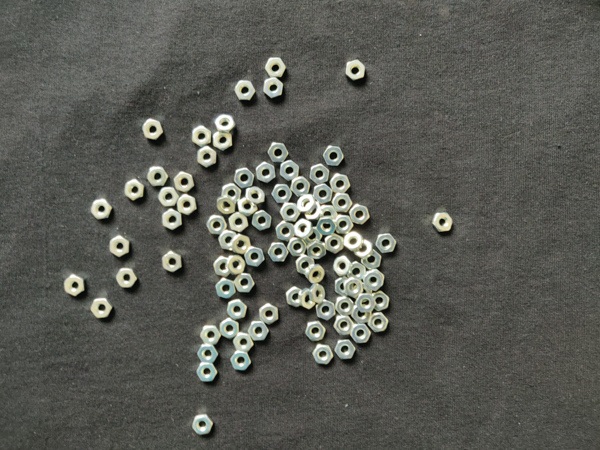nut: (192, 414, 214, 436), (64, 275, 85, 297), (91, 298, 113, 319), (234, 80, 256, 101), (375, 233, 397, 254), (91, 199, 112, 220), (225, 255, 246, 276), (207, 215, 228, 236), (290, 176, 311, 197), (305, 321, 326, 342), (368, 312, 389, 333), (432, 212, 453, 233), (147, 167, 169, 187), (162, 209, 182, 231), (162, 251, 182, 273), (197, 146, 217, 168), (263, 77, 283, 99), (265, 58, 287, 78), (256, 162, 276, 184), (316, 300, 336, 322), (333, 256, 353, 278), (116, 268, 137, 288), (125, 180, 145, 201), (143, 119, 163, 140), (158, 187, 179, 207), (177, 195, 197, 216), (174, 172, 194, 193), (192, 126, 212, 147), (346, 60, 366, 81), (216, 278, 236, 299), (233, 333, 254, 353), (234, 273, 255, 293), (245, 246, 265, 267), (228, 212, 248, 233), (221, 183, 241, 204), (234, 168, 254, 189), (237, 197, 258, 217), (252, 210, 272, 231), (268, 143, 289, 163), (268, 243, 289, 263), (275, 221, 296, 241), (313, 345, 334, 365), (310, 164, 330, 185), (323, 146, 344, 166), (332, 193, 353, 213), (349, 205, 370, 225), (334, 315, 354, 336), (335, 340, 356, 360), (350, 324, 371, 344), (361, 250, 382, 270), (356, 294, 377, 314), (218, 230, 237, 252), (280, 160, 299, 182), (231, 351, 251, 371), (249, 322, 269, 342), (231, 234, 251, 254), (297, 194, 317, 214), (330, 174, 350, 194), (344, 231, 364, 251), (352, 304, 372, 324), (110, 236, 129, 257), (215, 114, 236, 133), (220, 318, 239, 339), (228, 299, 247, 320), (259, 304, 278, 325), (280, 203, 301, 222), (272, 184, 293, 203), (317, 217, 338, 236), (213, 256, 231, 278), (298, 288, 316, 310), (213, 132, 233, 151), (197, 363, 217, 382), (198, 345, 218, 364), (200, 326, 220, 345), (216, 196, 236, 215), (246, 187, 265, 207), (287, 238, 307, 257), (296, 256, 315, 276), (313, 184, 332, 204), (354, 240, 373, 260), (344, 278, 363, 298), (353, 283, 372, 303), (364, 272, 383, 292), (295, 219, 313, 240), (306, 265, 325, 284), (335, 215, 354, 234), (335, 277, 354, 296), (335, 297, 354, 316), (318, 206, 338, 224), (326, 234, 344, 254), (348, 262, 366, 282), (372, 292, 390, 312), (286, 287, 303, 308), (308, 240, 326, 259), (304, 227, 322, 245), (305, 202, 322, 221), (310, 284, 326, 304)
